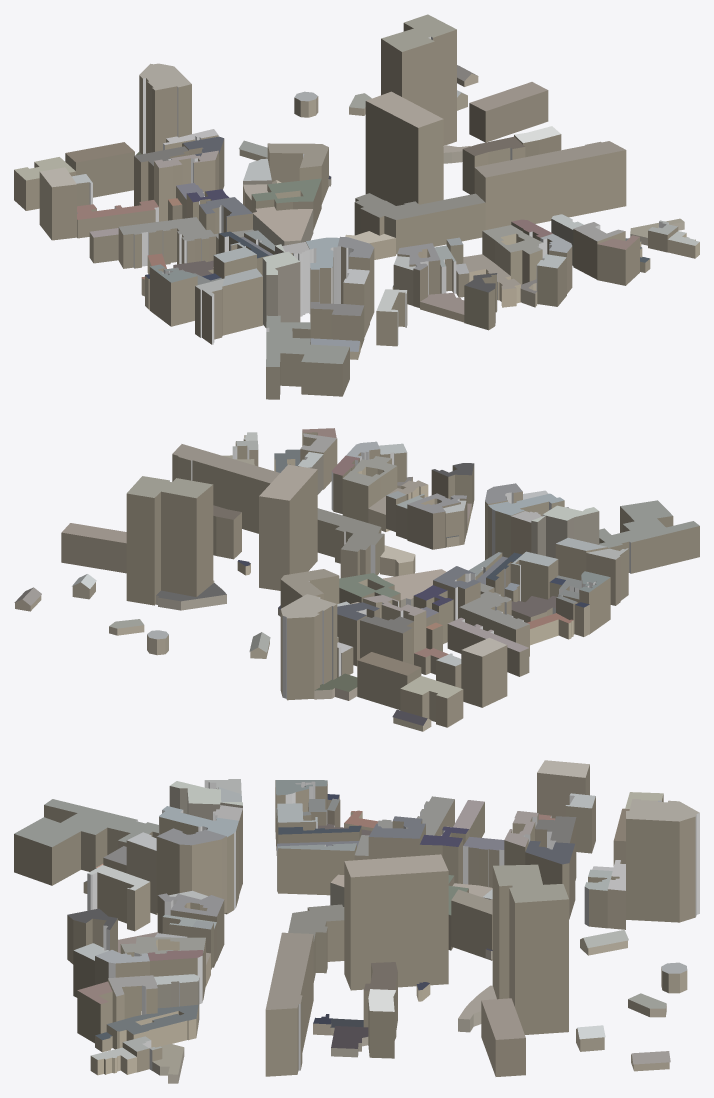
3 renders of one model, top to bottom at view 1: azimuth 30°, elevation 25°; view 2: azimuth 150°, elevation 25°; view 3: azimuth 270°, elevation 25°, orthographic. The views are drawn at different scales.
Visible parts, largest first — view 1: tuile; view 2: tuile; view 3: tuile.
Boxes of the visible parts, left/top/right/bottom form: tuile: left=14, top=14, right=699, bottom=399; tuile: left=14, top=428, right=699, bottom=731; tuile: left=14, top=760, right=699, bottom=1083.
Size of the model in its own units: 263 by 70.26 by 277.
